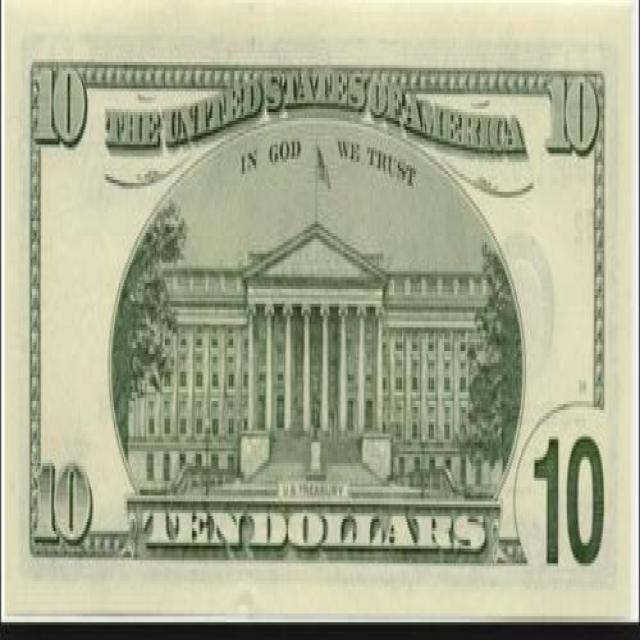10-Back: (2, 0, 632, 619)
